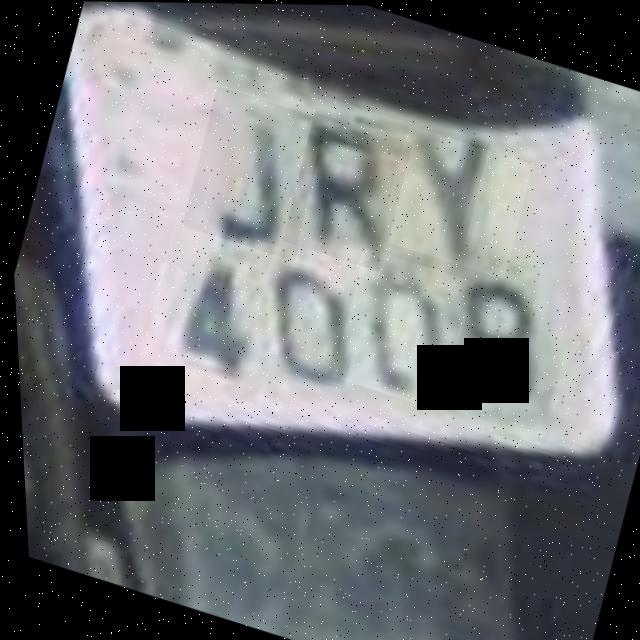0: (226, 223, 403, 421), (322, 246, 476, 410)
4: (124, 211, 305, 415)
8: (418, 245, 585, 430)
J: (173, 84, 334, 261)
R: (274, 111, 415, 270)
Y: (372, 124, 536, 278)
